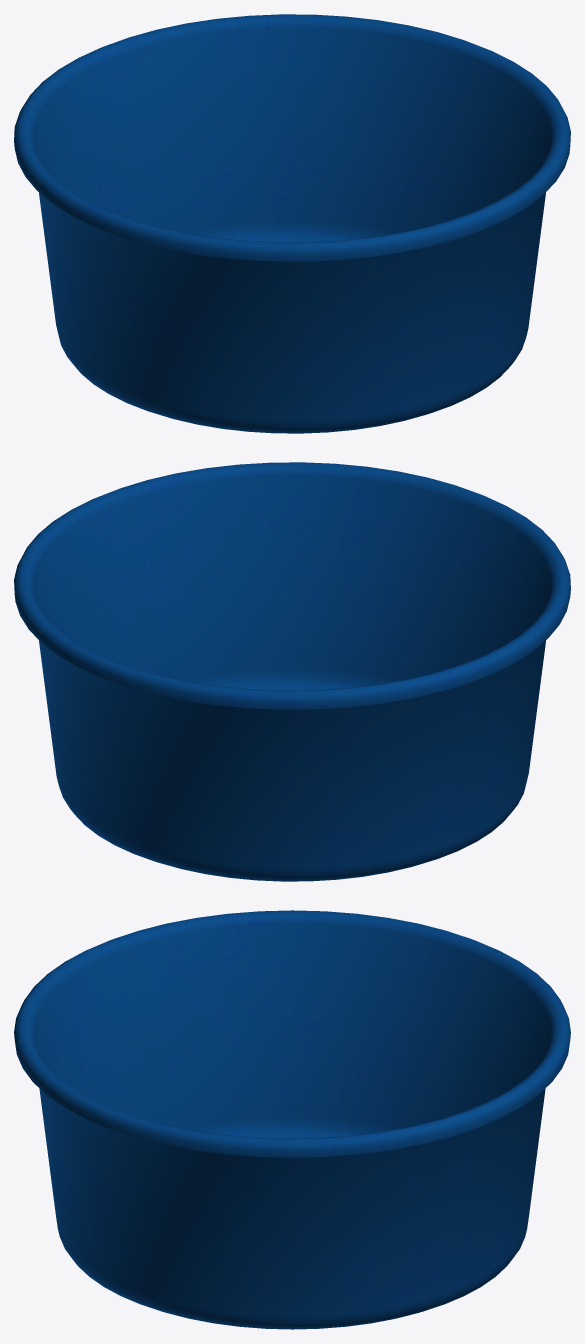
File: PlasticWashBasin2.fbx
3 renders of one model, top to bottom at view 1: azimuth 30°, elevation 25°; view 2: azimuth 150°, elevation 25°; view 3: azimuth 270°, elevation 25°, orthographic.
Visible parts, largest first — view 1: PlasticWashBasin2; view 2: PlasticWashBasin2; view 3: PlasticWashBasin2.
Boxes of the visible parts, x1,y1,x2,y2 form: PlasticWashBasin2: (14,14,570,433); PlasticWashBasin2: (14,462,570,881); PlasticWashBasin2: (14,910,570,1329).
Bounding box in the file's own units: 12.72 × 5.4 × 12.72.
